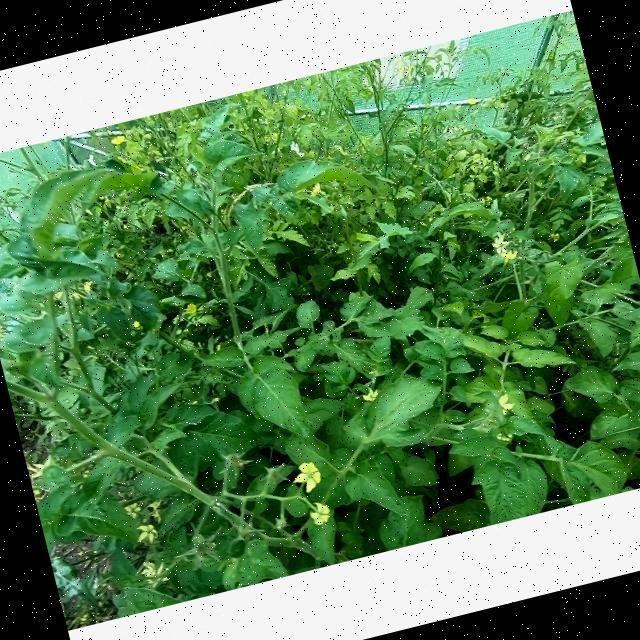Flowers: (288, 455, 327, 496), (138, 556, 172, 588), (490, 228, 520, 264), (306, 498, 333, 528), (133, 520, 159, 544), (120, 497, 144, 521), (355, 385, 382, 404), (26, 458, 49, 479), (148, 499, 166, 524), (496, 392, 515, 415), (108, 132, 126, 147), (308, 181, 324, 197), (82, 279, 96, 295), (184, 302, 199, 316), (52, 291, 64, 301), (466, 96, 478, 106), (132, 318, 142, 328)
